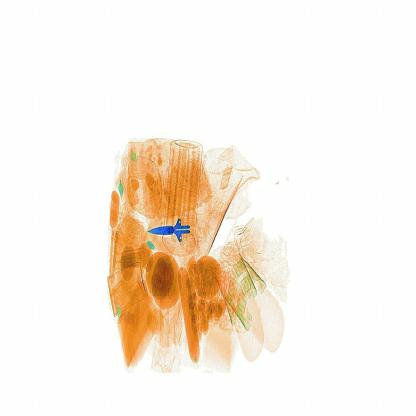gun: (146, 205, 212, 253)
